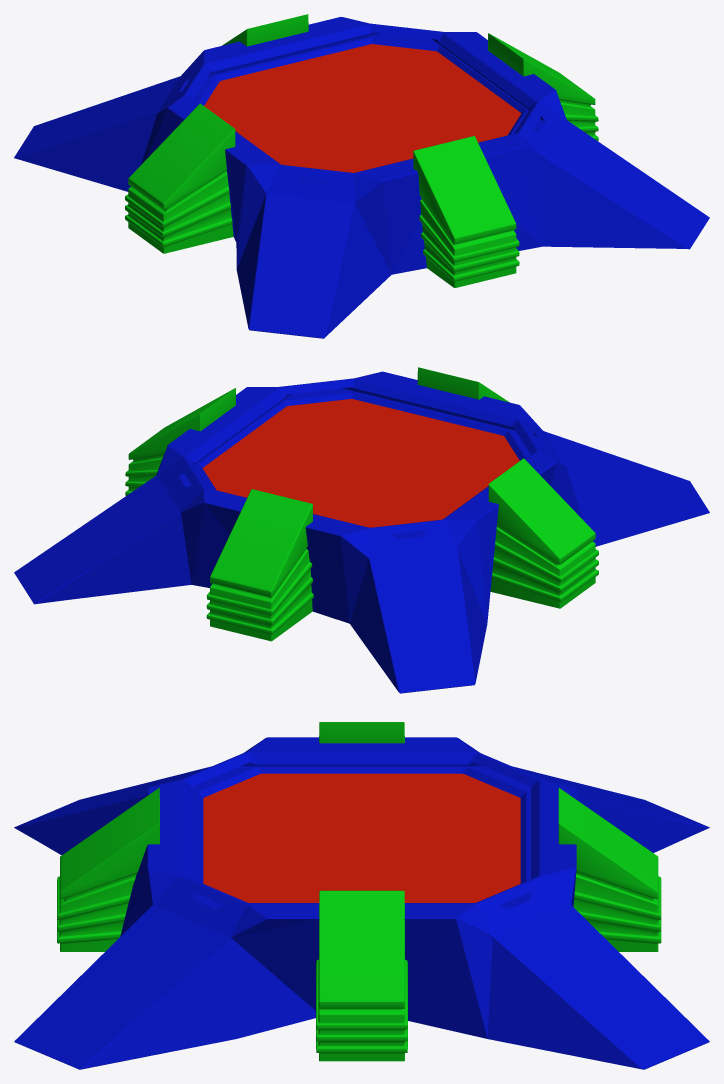
The model's file is Masa finala.fbx.
3 renders of one model, top to bottom at view 1: azimuth 30°, elevation 25°; view 2: azimuth 150°, elevation 25°; view 3: azimuth 270°, elevation 25°, orthographic. The views are drawn at different scales.
Visible parts, largest first — view 1: Plane.010, Plane.021, Plane.019; view 2: Plane.010, Plane.021, Plane.019; view 3: Plane.010, Plane.019, Plane.021.
Boxes of the visible parts, bbox=[...] form: Plane.010: bbox=[14, 17, 709, 338]; Plane.021: bbox=[125, 14, 598, 287]; Plane.019: bbox=[204, 44, 521, 172]; Plane.010: bbox=[14, 371, 709, 693]; Plane.021: bbox=[125, 367, 598, 641]; Plane.019: bbox=[203, 399, 519, 527]; Plane.010: bbox=[14, 737, 709, 1069]; Plane.019: bbox=[203, 773, 520, 902]; Plane.021: bbox=[57, 722, 661, 1061].
Size of the model in its own units: 417 by 106 by 455.
